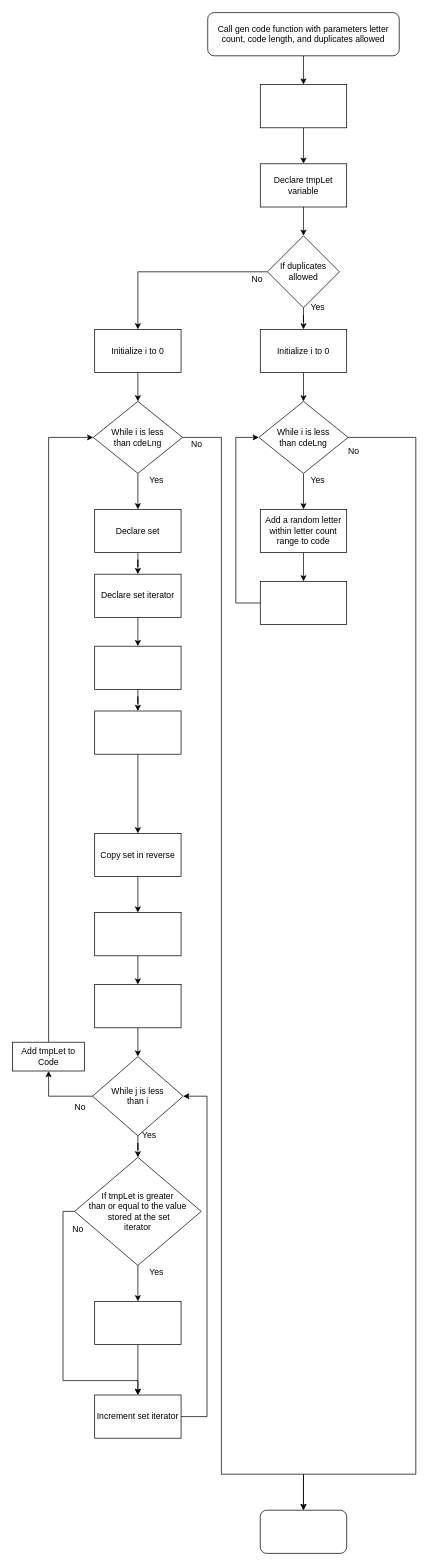
The diagram is 434 pixels wide and 1566 high, and some of its shapes have lost their labels. The shapes that lost their labels are listed below. From the top down, each one's centre as x and y in pixels, then its label:
[303,106]: Initialize code variable to "\0"
[303,603]: Increment i
[137,667]: Set tmpLet to a random letter within letter count range minus i
[137,732]: Store letters in code in the set
[137,934]: Assign set iterator to the copy set
[137,1006]: initialize j to 0
[137,1323]: Increment tmpLet to the next letter
[303,1531]: Return code
